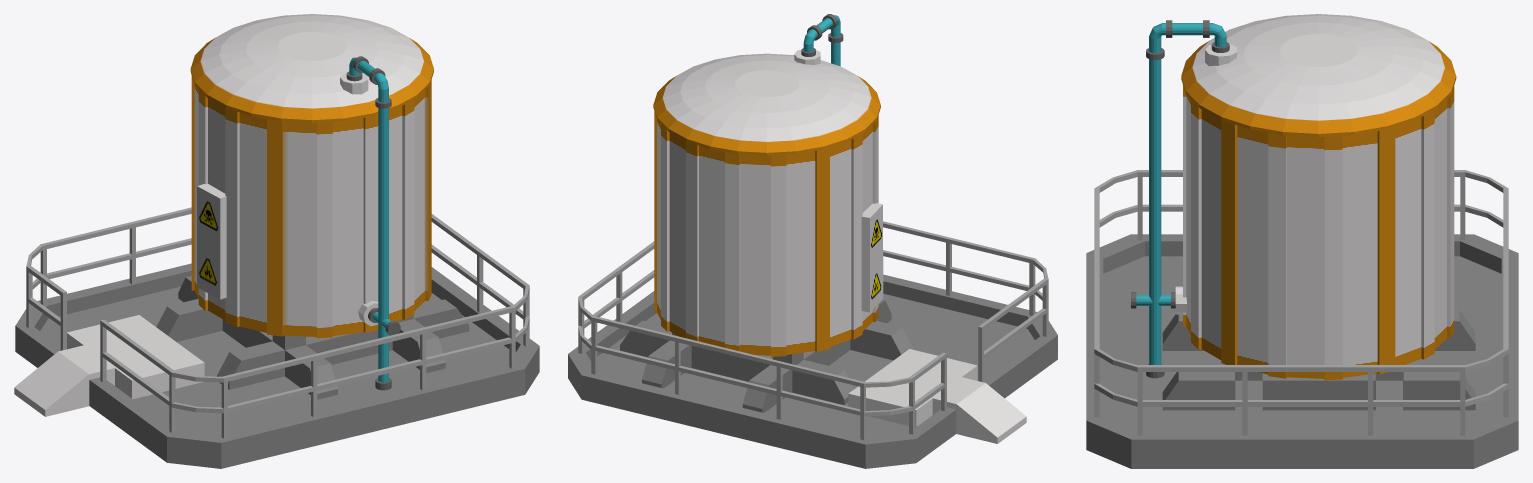
File: tanque_grande.obj
3 views of the same model, side by side, from view 1: azimuth 30°, elevation 25°; view 2: azimuth 150°, elevation 25°; view 3: azimuth 270°, elevation 25° (orthographic). The views are drawn at different scales.
Parts seen in each view (by area): view 1: export_Fuel_tank_3_; view 2: export_Fuel_tank_3_; view 3: export_Fuel_tank_3_.
Boxes of the visible parts, x1,y1,x2,y2 form: export_Fuel_tank_3_: (14,14,539,468); export_Fuel_tank_3_: (568,14,1057,468); export_Fuel_tank_3_: (1086,14,1518,468).
Bounding box in the file's own units: 1.34 × 1 × 1.06.
1 material, 1 textured.
